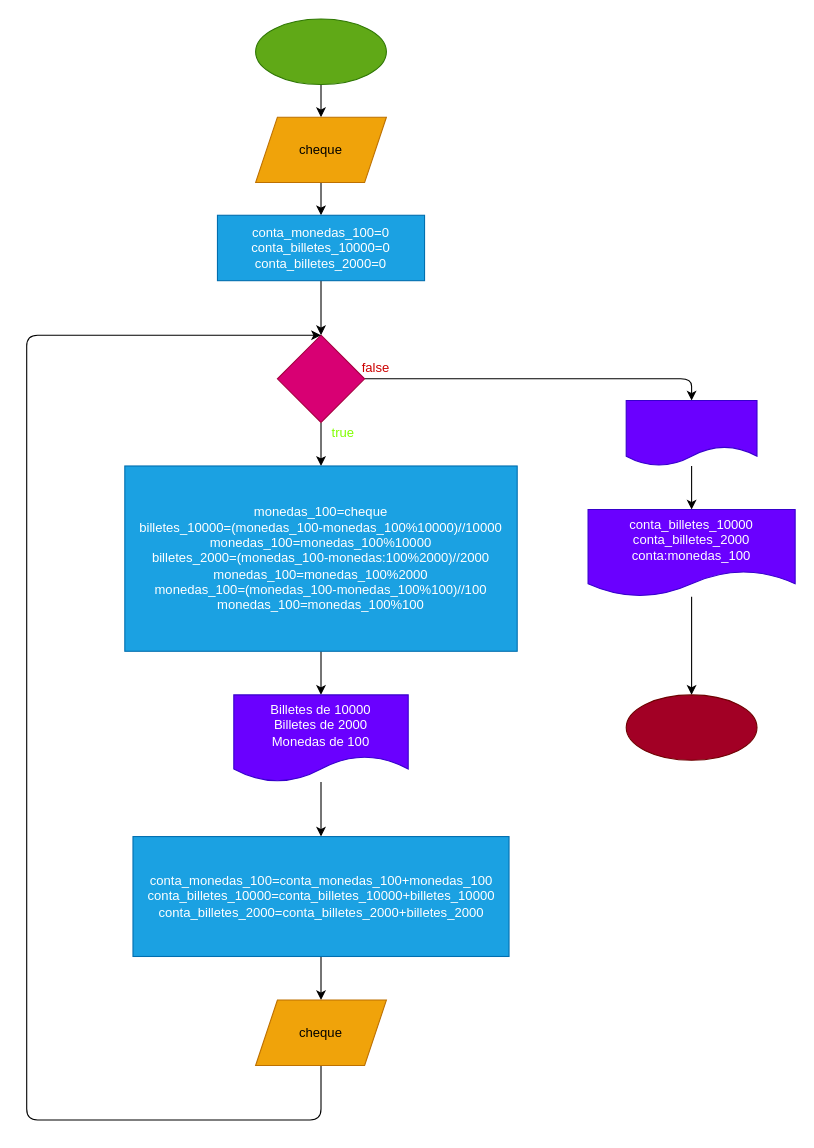
The diagram is 814 pixels wide and 1148 high, and some of its shapes have lost their labels. Here are the shapes that lost their labels. From the top down, the centre of each, then its label:
[320,51]: Inicio
[320,378]: cheque!=0
[691,432]: FIn del día
[691,727]: Fin
